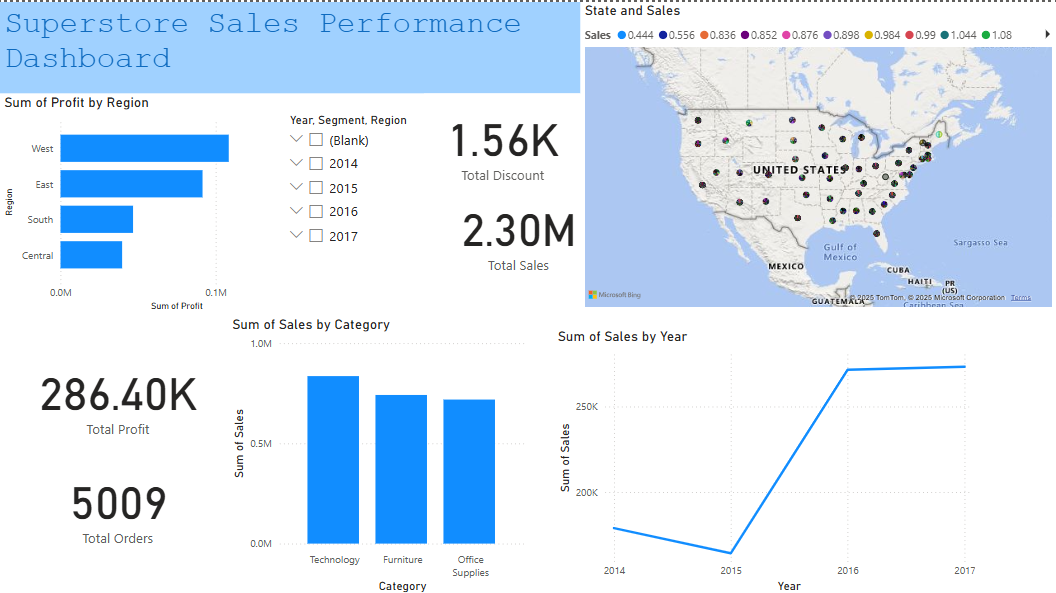

This screenshot's page, from the dashboard's own definition file:
{"tool":"powerbi","page":{"name":"Page 1","canvas":[1280,720],"ordinal":0},"visuals":[{"type":"card","fields":{"Values":["Sum(Superstore.Sales)"]},"box":[485.7,202.2,285.4,156.9],"z":0},{"type":"card","fields":{"Values":["Sum(Superstore.Profit)"]},"box":[0,400.6,285.4,156.9],"z":1000},{"type":"card","fields":{"Values":["Count(Superstore.Order ID)"]},"box":[0,533,285,157],"z":2000},{"type":"lineChart","fields":{"Y":["Sum(Superstore.Sales)"],"Category":["Superstore.Order Date.Variation.Date Hierarchy.Year","Superstore.Order Date.Variation.Date Hierarchy.Month"]},"box":[670.9,395,515.9,325],"z":3000},{"type":"columnChart","fields":{"Category":["Superstore.Category"],"Y":["Sum(Superstore.Sales)"]},"box":[275.9,379.8,364.7,340.2],"z":4000},{"type":"barChart","fields":{"Category":["Superstore.Region"],"Y":["Sum(Superstore.Profit)"]},"box":[0,111.5,374.2,268.3],"z":5000},{"type":"slicer","fields":{"Values":["Superstore.Order Date.Variation.Date Hierarchy.Year","Superstore.Segment","Superstore.Region"]},"box":[338.2,129.1,203.6,229.1],"z":6000},{"type":"map","fields":{"Category":["Superstore.State"],"Series":["Superstore.Sales"]},"box":[703.6,0,576.4,374.5],"z":7000},{"type":"textbox","box":[0,0,703.6,110.9],"z":7001},{"type":"card","fields":{"Values":["Sum(Superstore.Discount)"]},"box":[514.5,110.9,189.1,120],"z":7002}]}

Visuals, with their boxes in screenshot pixels (x1, y1, x2, y2), scaled from the page's 1280x720 canvas onto the 1056x593 screenshot:
card - Sum(Superstore.Sales): 401 167 636 296
card - Sum(Superstore.Profit): 0 330 235 459
card - Count(Superstore.Order ID): 0 439 235 568
lineChart - Sum(Superstore.Sales) x Superstore.Order Date.Variation.Date Hierarchy.Year: 553 325 979 592
columnChart - Superstore.Category x Sum(Superstore.Sales): 228 313 528 592
barChart - Superstore.Region x Sum(Superstore.Profit): 0 92 309 313
slicer - Superstore.Order Date.Variation.Date Hierarchy.Year x Superstore.Segment: 279 106 447 295
map - Superstore.State x Superstore.Sales: 580 0 1055 308
textbox: 0 0 580 91
card - Sum(Superstore.Discount): 424 91 580 190
